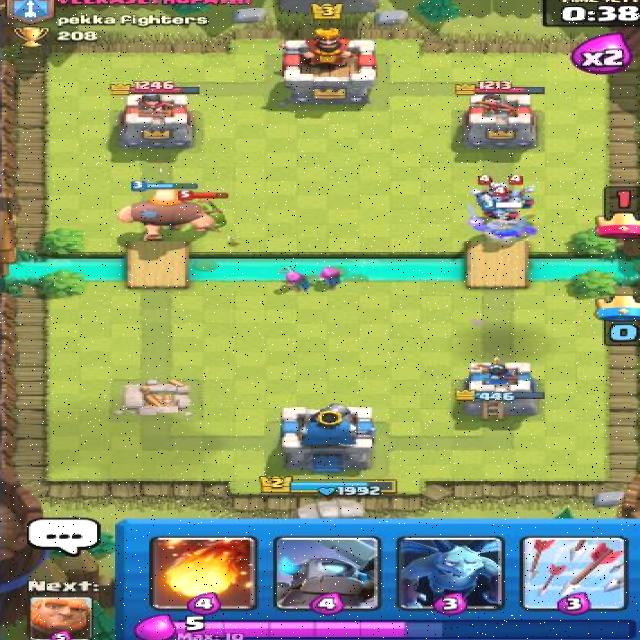Enemy-Brawler: (174, 188, 232, 234)
Enemy-Minion: (496, 175, 540, 211), (478, 187, 523, 222), (468, 173, 512, 208)
Player-Archer: (275, 264, 316, 294), (309, 264, 347, 291)
Player-Giant: (117, 179, 223, 242)
Player-Knight: (464, 201, 541, 242)
